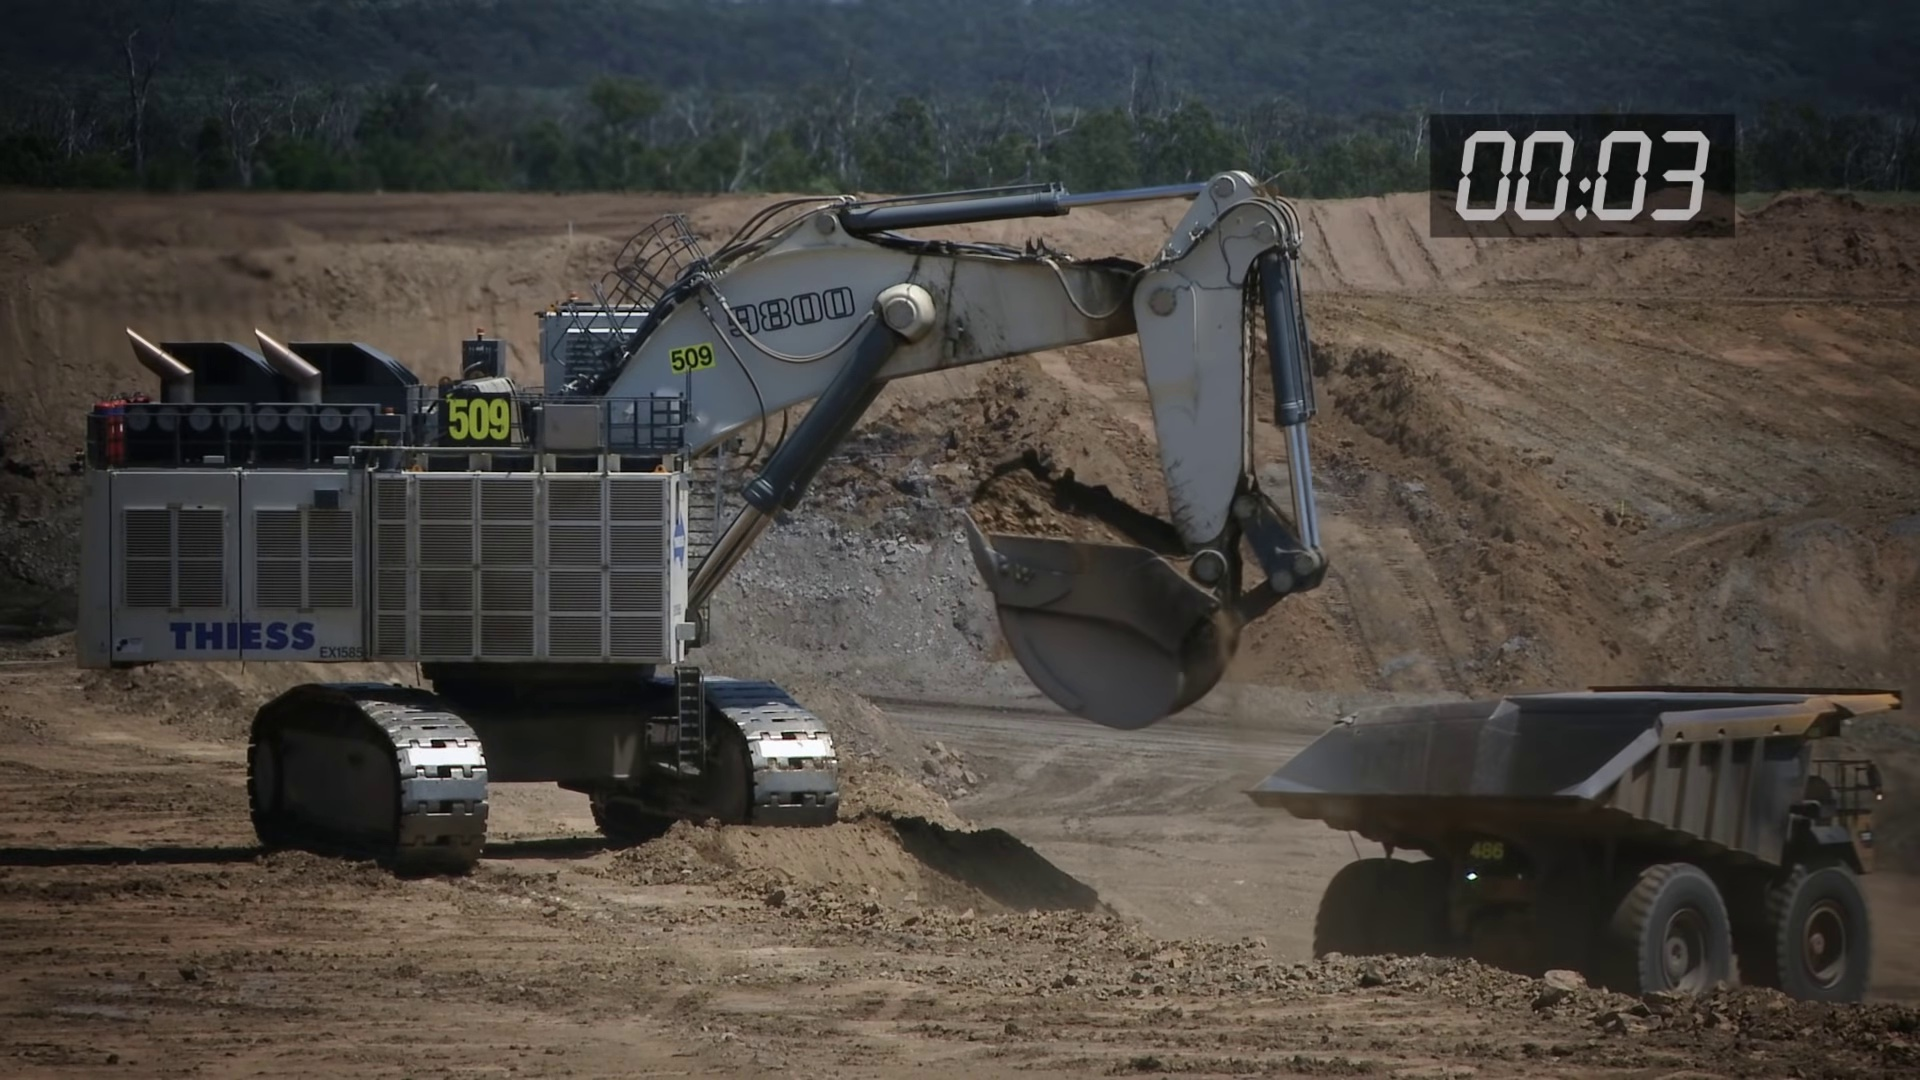dumper: (1253, 679, 1902, 1010)
excavator: (55, 167, 1333, 882)
